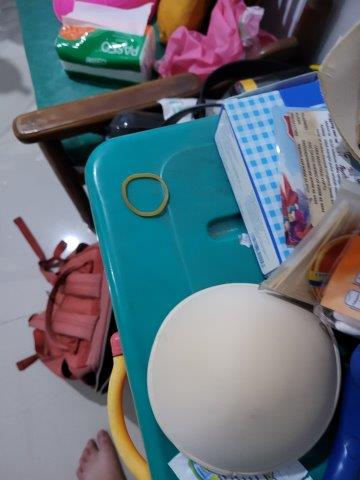karet: (120, 172, 171, 218)
